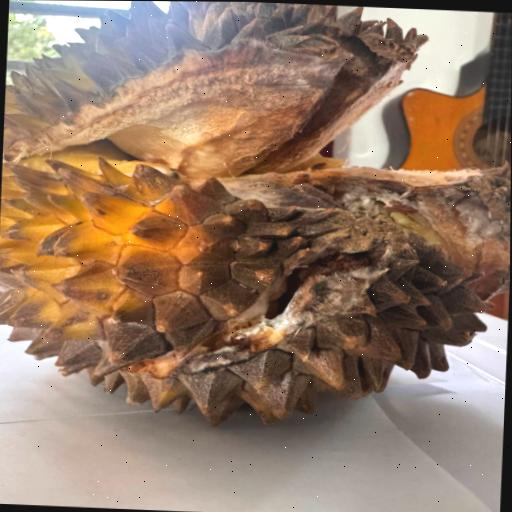mold: (189, 29, 512, 409)
rot: (0, 0, 512, 484)
